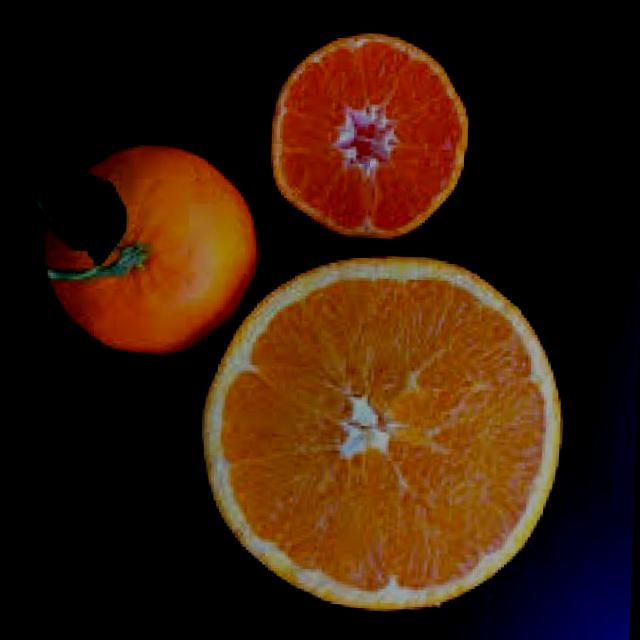Orange: (195, 250, 571, 620), (19, 140, 265, 362), (267, 29, 473, 244)
